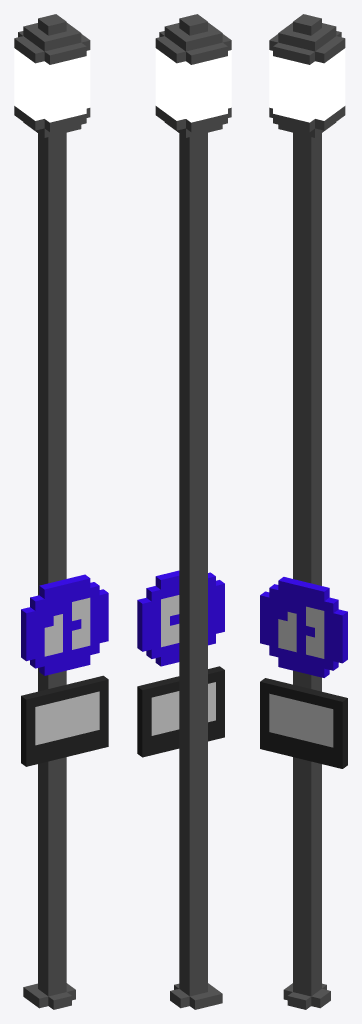
File: lampPoleOne.glb
3 views of the same model, side by side, from view 1: azimuth 30°, elevation 25°; view 2: azimuth 210°, elevation 25°; view 3: azimuth 330°, elevation 25° (orthographic).
Parts seen in each view (by area): view 1: ObjObject; view 2: ObjObject; view 3: ObjObject.
Part boxes in pixels (bbox=[...]): ObjObject: bbox=[14, 14, 108, 1009]; ObjObject: bbox=[137, 14, 231, 1009]; ObjObject: bbox=[260, 14, 347, 1009].
Size of the model in its own units: 0.9 by 10.2 by 0.6.
Materials: 2 (1 with a texture image).
